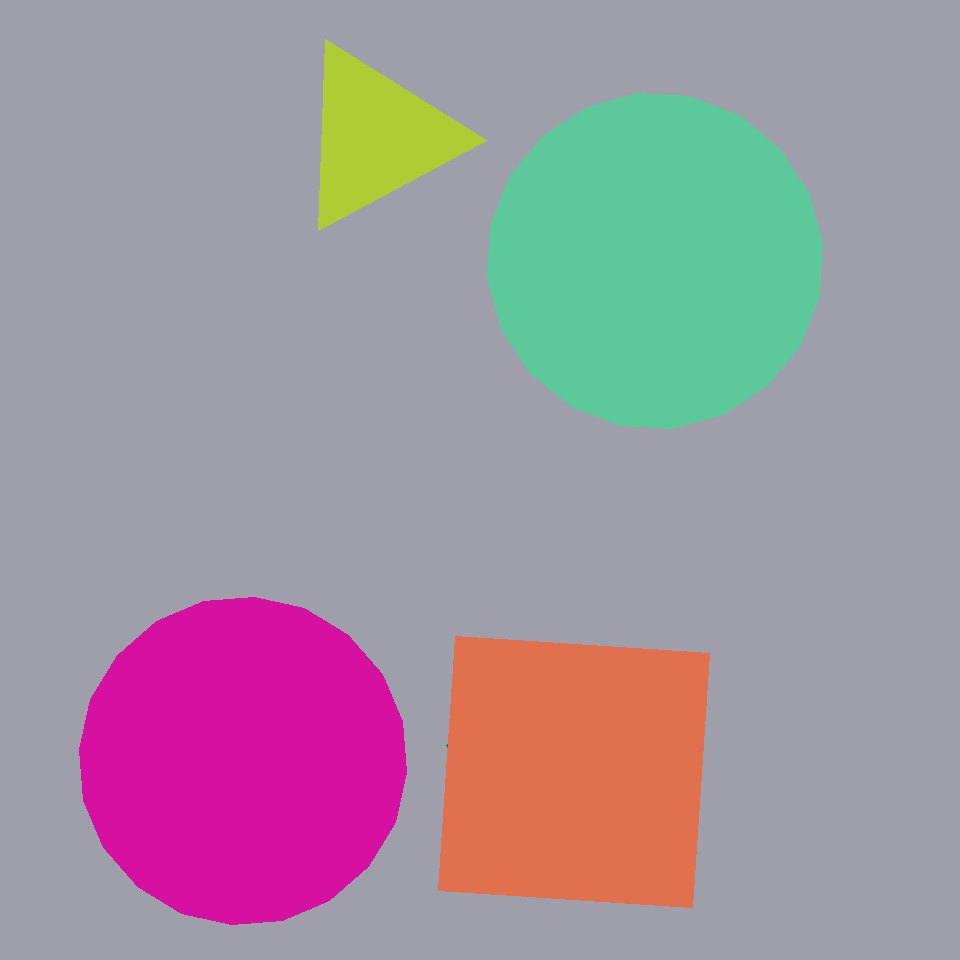circle: (492, 669, 706, 917), (149, 365, 358, 553), (293, 42, 461, 232), (272, 126, 435, 304)
square: (438, 636, 710, 908), (638, 450, 821, 633), (446, 695, 594, 842)
triangle: (20, 206, 391, 577), (488, 93, 822, 428), (79, 598, 406, 924)
